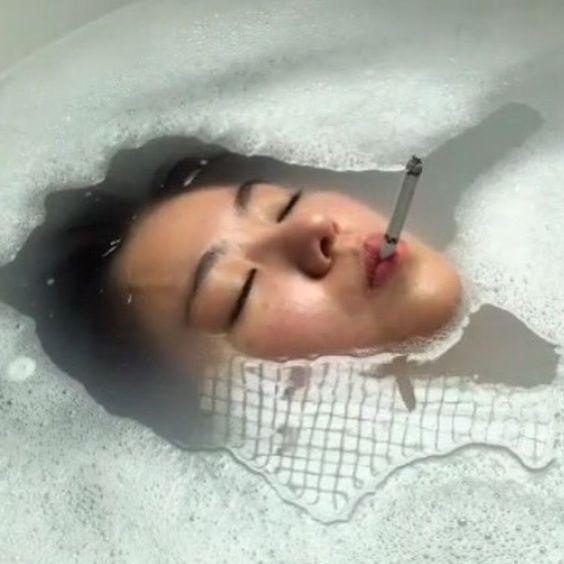cigarette: (378, 156, 424, 263)
